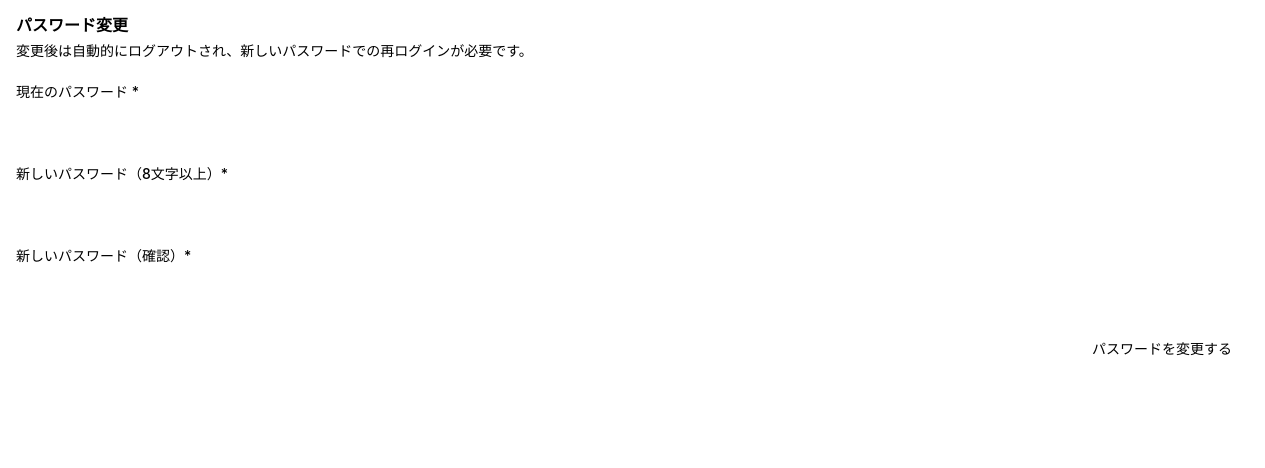
Test: パスワード変更フォーム › 未入力のまま送信すると各欄の傍に必須の文言が出て、ボタンは無効化されないこと
Click the button "パスワードを変更する" at x=1162, y=349, box [1076,331,1248,367]
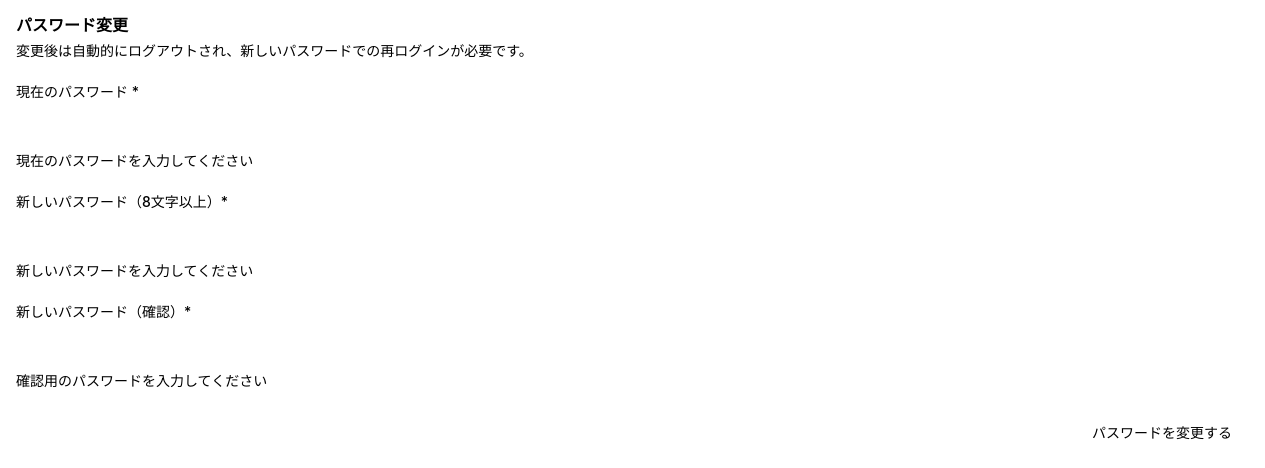
Expected: the text "現在のパスワードを入力してください" is shown, [16,152,253,169]
Expected: the text "新しいパスワードを入力してください" is shown, [16,262,253,279]
Expected: the text "確認用のパスワードを入力してください" is shown, [16,372,267,389]
